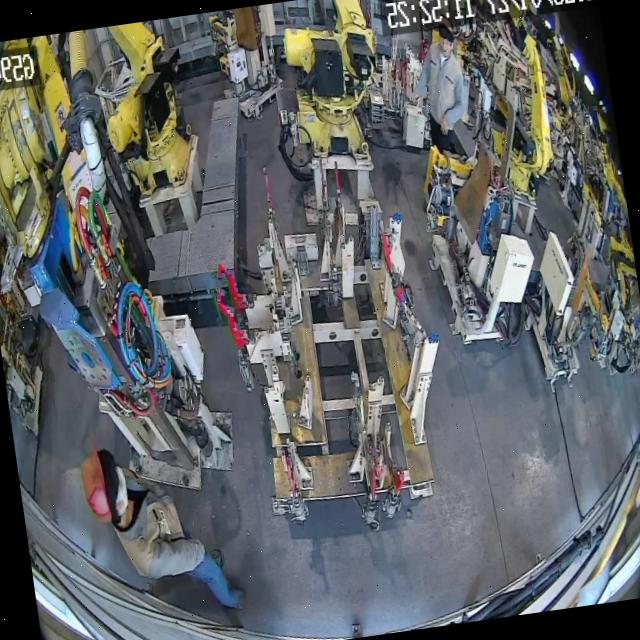Person: (79, 431, 248, 630), (402, 20, 476, 160)
